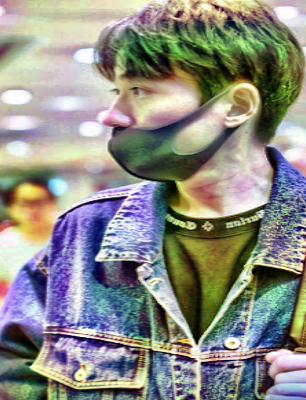mask_weared_incorrect: (102, 72, 217, 182)
